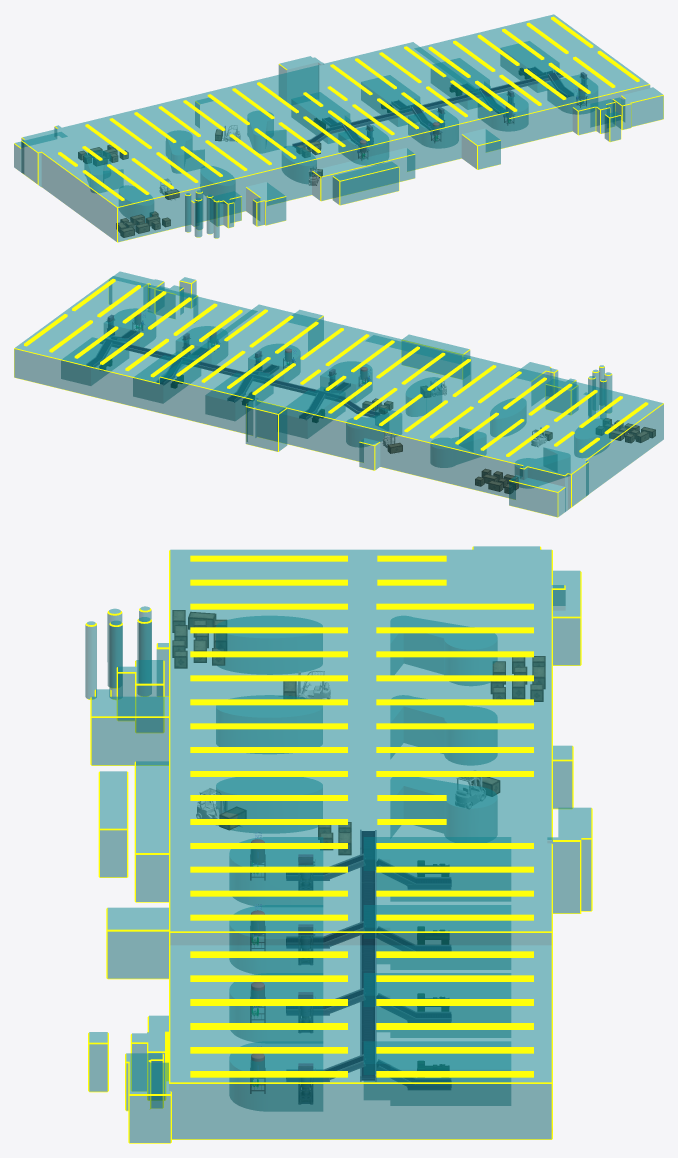
The model's file is furnishedFactory.glb.
The picture shows the model from 3 angles, top to bottom: view 1: azimuth 30°, elevation 25°; view 2: azimuth 150°, elevation 25°; view 3: azimuth 270°, elevation 25°; orthographic projection. The views are drawn at different scales.
Parts seen in each view (by area): view 1: Mesh_0, Mesh_1; view 2: Mesh_0, Mesh_1; view 3: Mesh_0, Mesh_1.
Part boxes in pixels (x1=…): Mesh_0: x1=14, y1=14, x2=663, y2=241; Mesh_1: x1=14, y1=16, x2=663, y2=242; Mesh_0: x1=14, y1=271, x2=663, y2=516; Mesh_1: x1=14, y1=278, x2=663, y2=517; Mesh_0: x1=85, y1=546, x2=591, y2=1142; Mesh_1: x1=85, y1=546, x2=592, y2=1143.
Size of the model in its own units: 9.29 by 0.6161 by 3.78.
